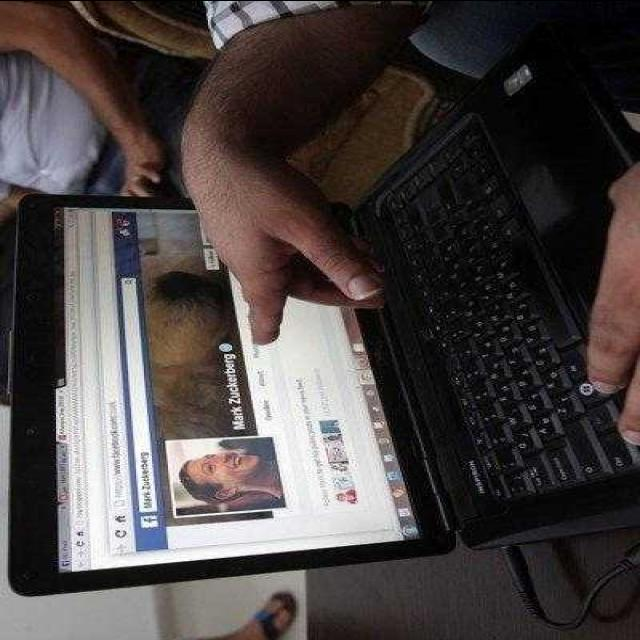laptop: (24, 119, 640, 582)
